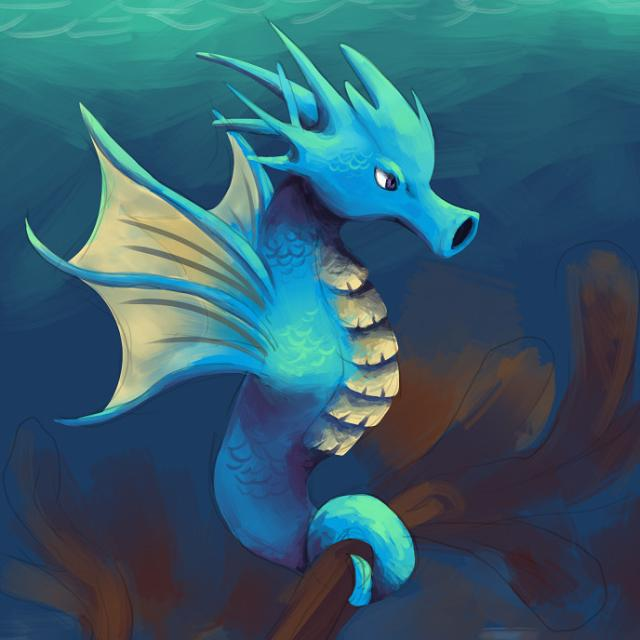Seadra: (75, 47, 488, 590)
